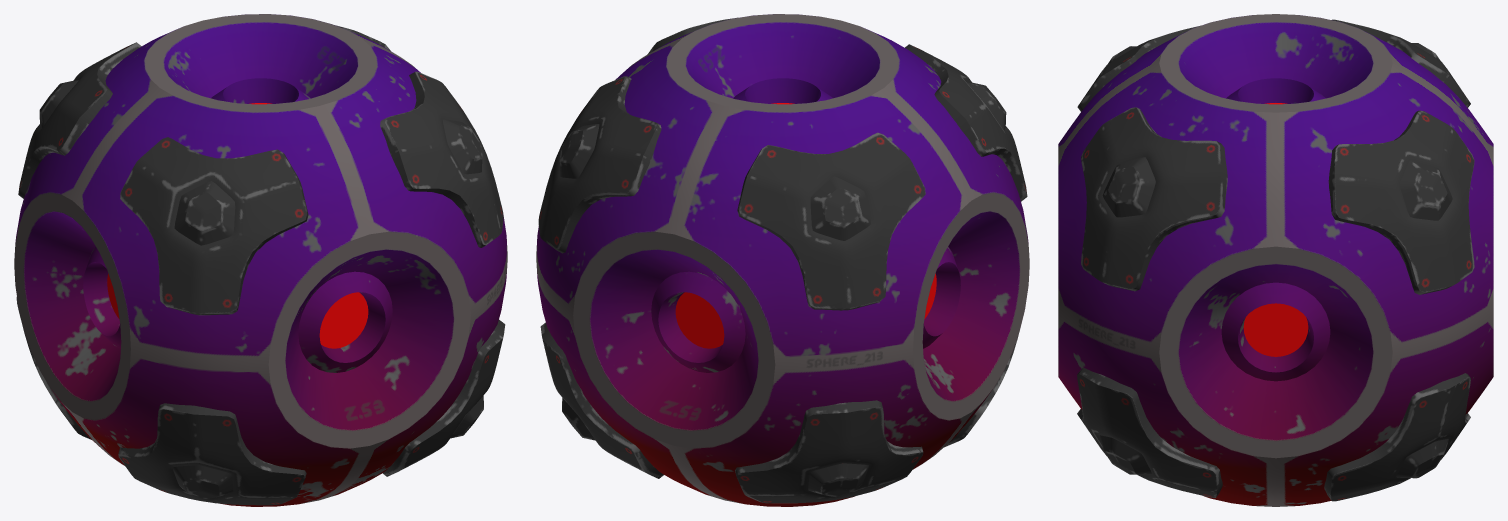
File: SciFiSphere.glb
The picture shows the model from 3 angles, left to right: view 1: azimuth 30°, elevation 25°; view 2: azimuth 150°, elevation 25°; view 3: azimuth 270°, elevation 25°; orthographic projection.
Parts seen in each view (by area): view 1: Low.002_Cube.015; view 2: Low.002_Cube.015; view 3: Low.002_Cube.015.
Boxes of the visible parts, box(x1,y1,x2,y2) form: Low.002_Cube.015: box(14, 14, 507, 506); Low.002_Cube.015: box(536, 14, 1029, 506); Low.002_Cube.015: box(1058, 14, 1493, 506).
Size of the model in its own units: 1.54 by 1.54 by 1.54.
Materials: 1 (1 with a texture image).
